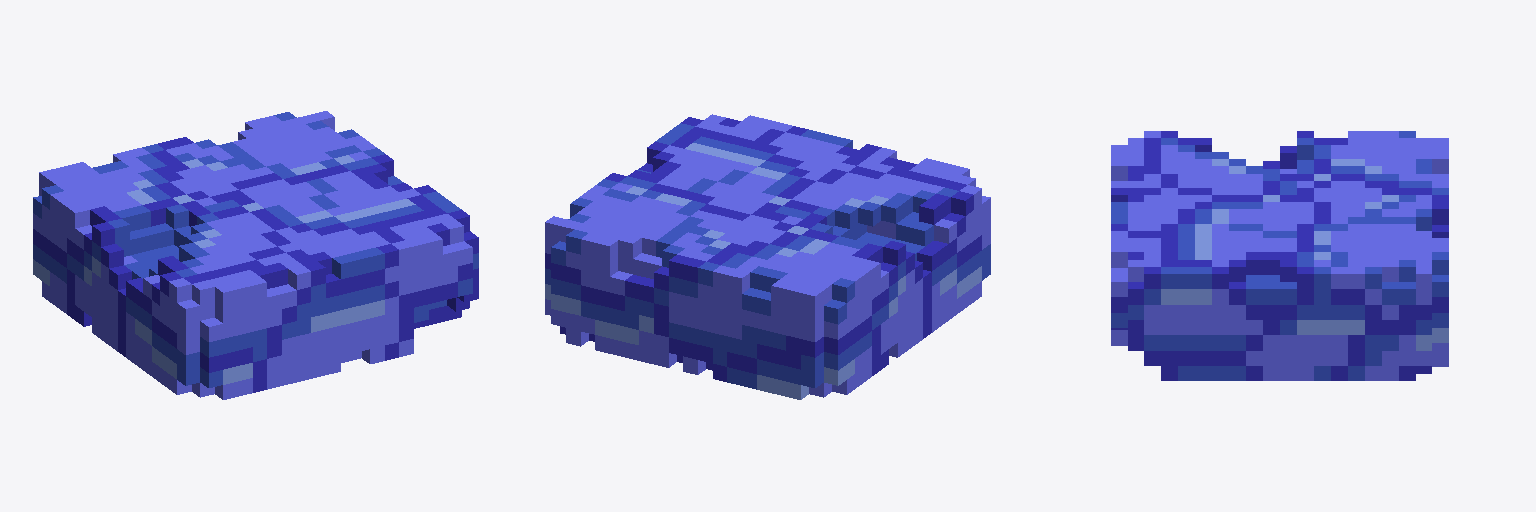
3 renders of one model, left to right at view 1: azimuth 30°, elevation 25°; view 2: azimuth 150°, elevation 25°; view 3: azimuth 270°, elevation 25°, orthographic.
Parts seen in each view (by area): view 1: object 1; view 2: object 1; view 3: object 1.
Part boxes in pixels (x1,y1,x2,y2): object 1: (33,111,478,399); object 1: (545,114,990,399); object 1: (1111,131,1448,380).
Size of the model in its own units: 2 by 0.7 by 2.
1 materials, 1 textured.